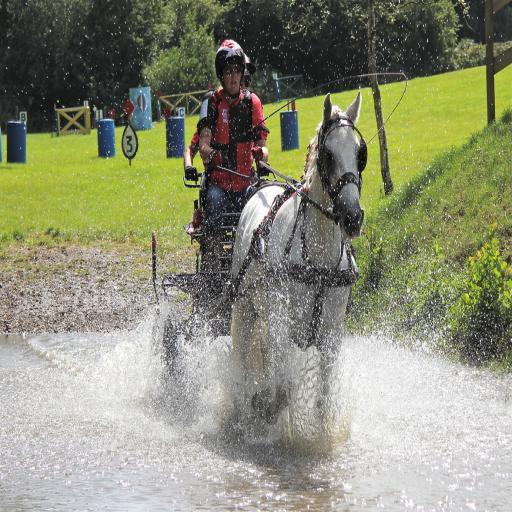horse: (231, 90, 362, 439)
